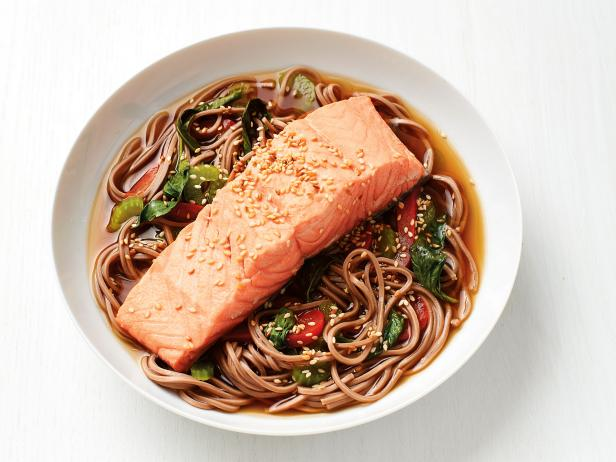Soba: (111, 66, 481, 410)
